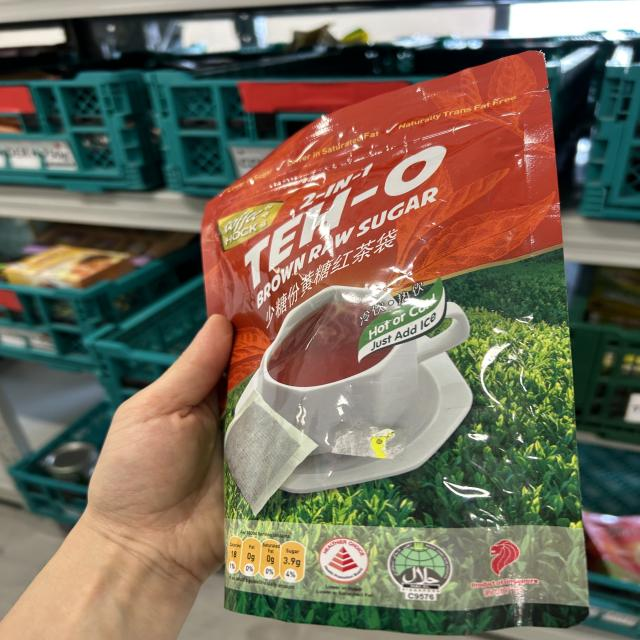object_name: (218, 127, 580, 618)
